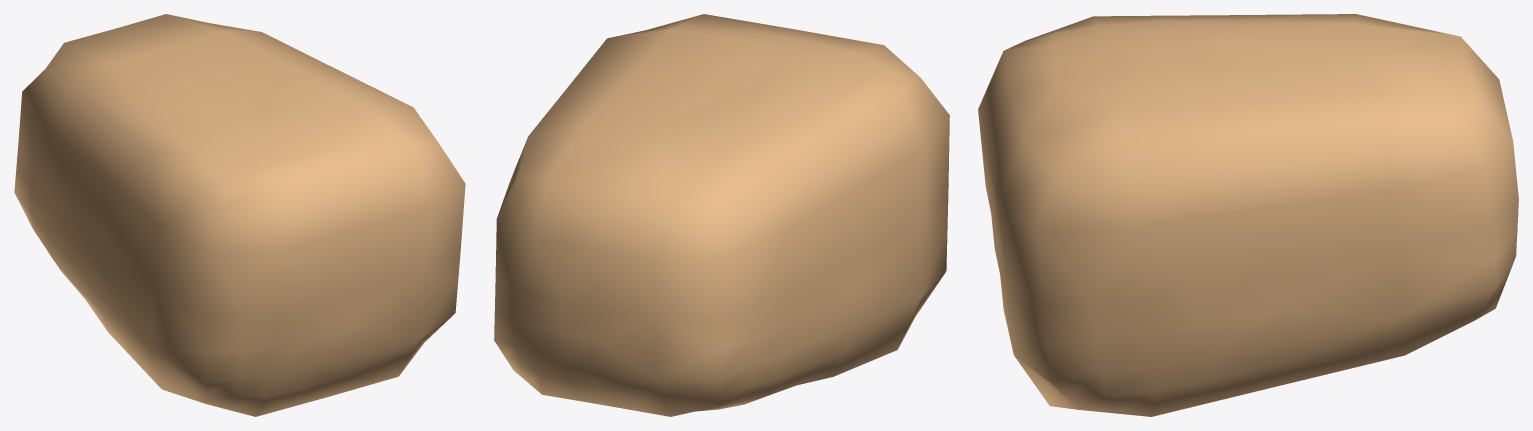
Rendered from index_02_l.dae.
The picture shows the model from 3 angles, left to right: view 1: azimuth 30°, elevation 25°; view 2: azimuth 150°, elevation 25°; view 3: azimuth 270°, elevation 25°; orthographic projection. The views are drawn at different scales.
Parts seen in each view (by area): view 1: skin_geo_index_02_r; view 2: skin_geo_index_02_r; view 3: skin_geo_index_02_r.
Part boxes in pixels (left/top/right/bottom): skin_geo_index_02_r: left=14, top=14, right=465, bottom=416; skin_geo_index_02_r: left=494, top=14, right=949, bottom=416; skin_geo_index_02_r: left=978, top=14, right=1518, bottom=416.
Bounding box in the file's own units: 0.0206 × 0.0289 × 0.0177.
